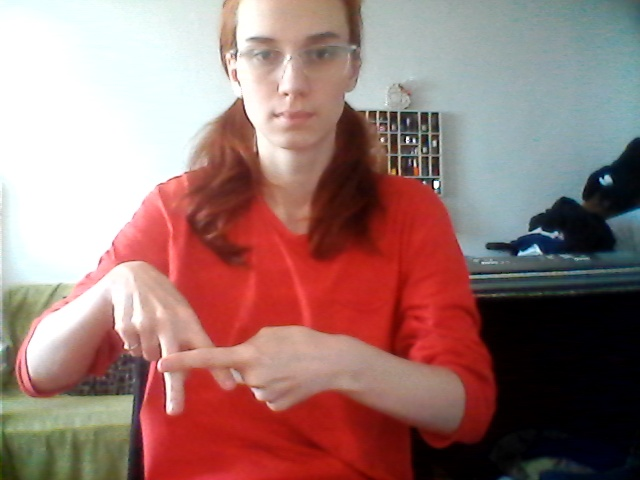a: (113, 312, 291, 431)
